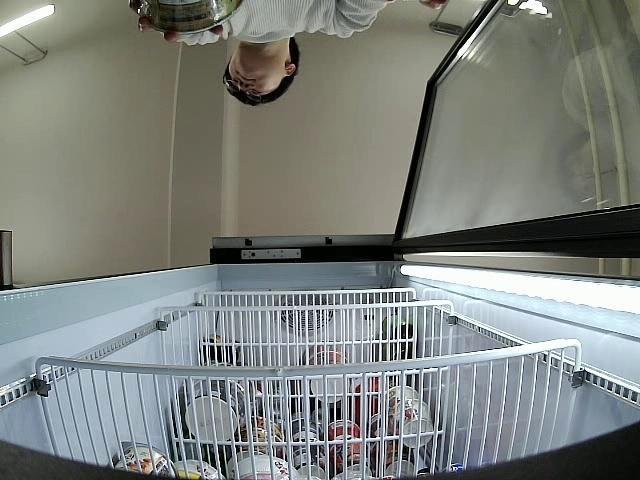03_chapagetti_L: (134, 0, 241, 32)
